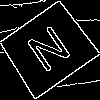N: (23, 24, 79, 82)
